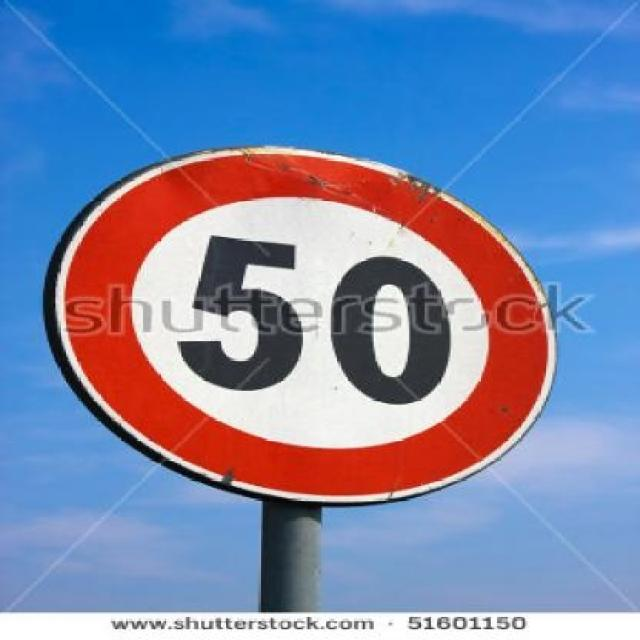forb_speed_over_50: (64, 158, 575, 500)
